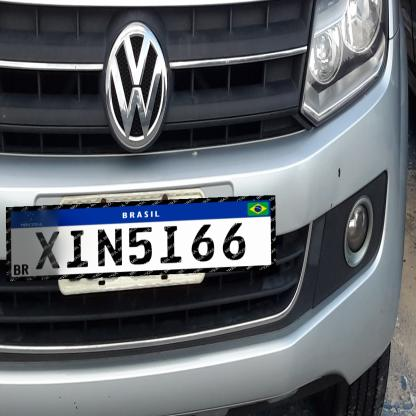PlacaM: (6, 196, 276, 282)
